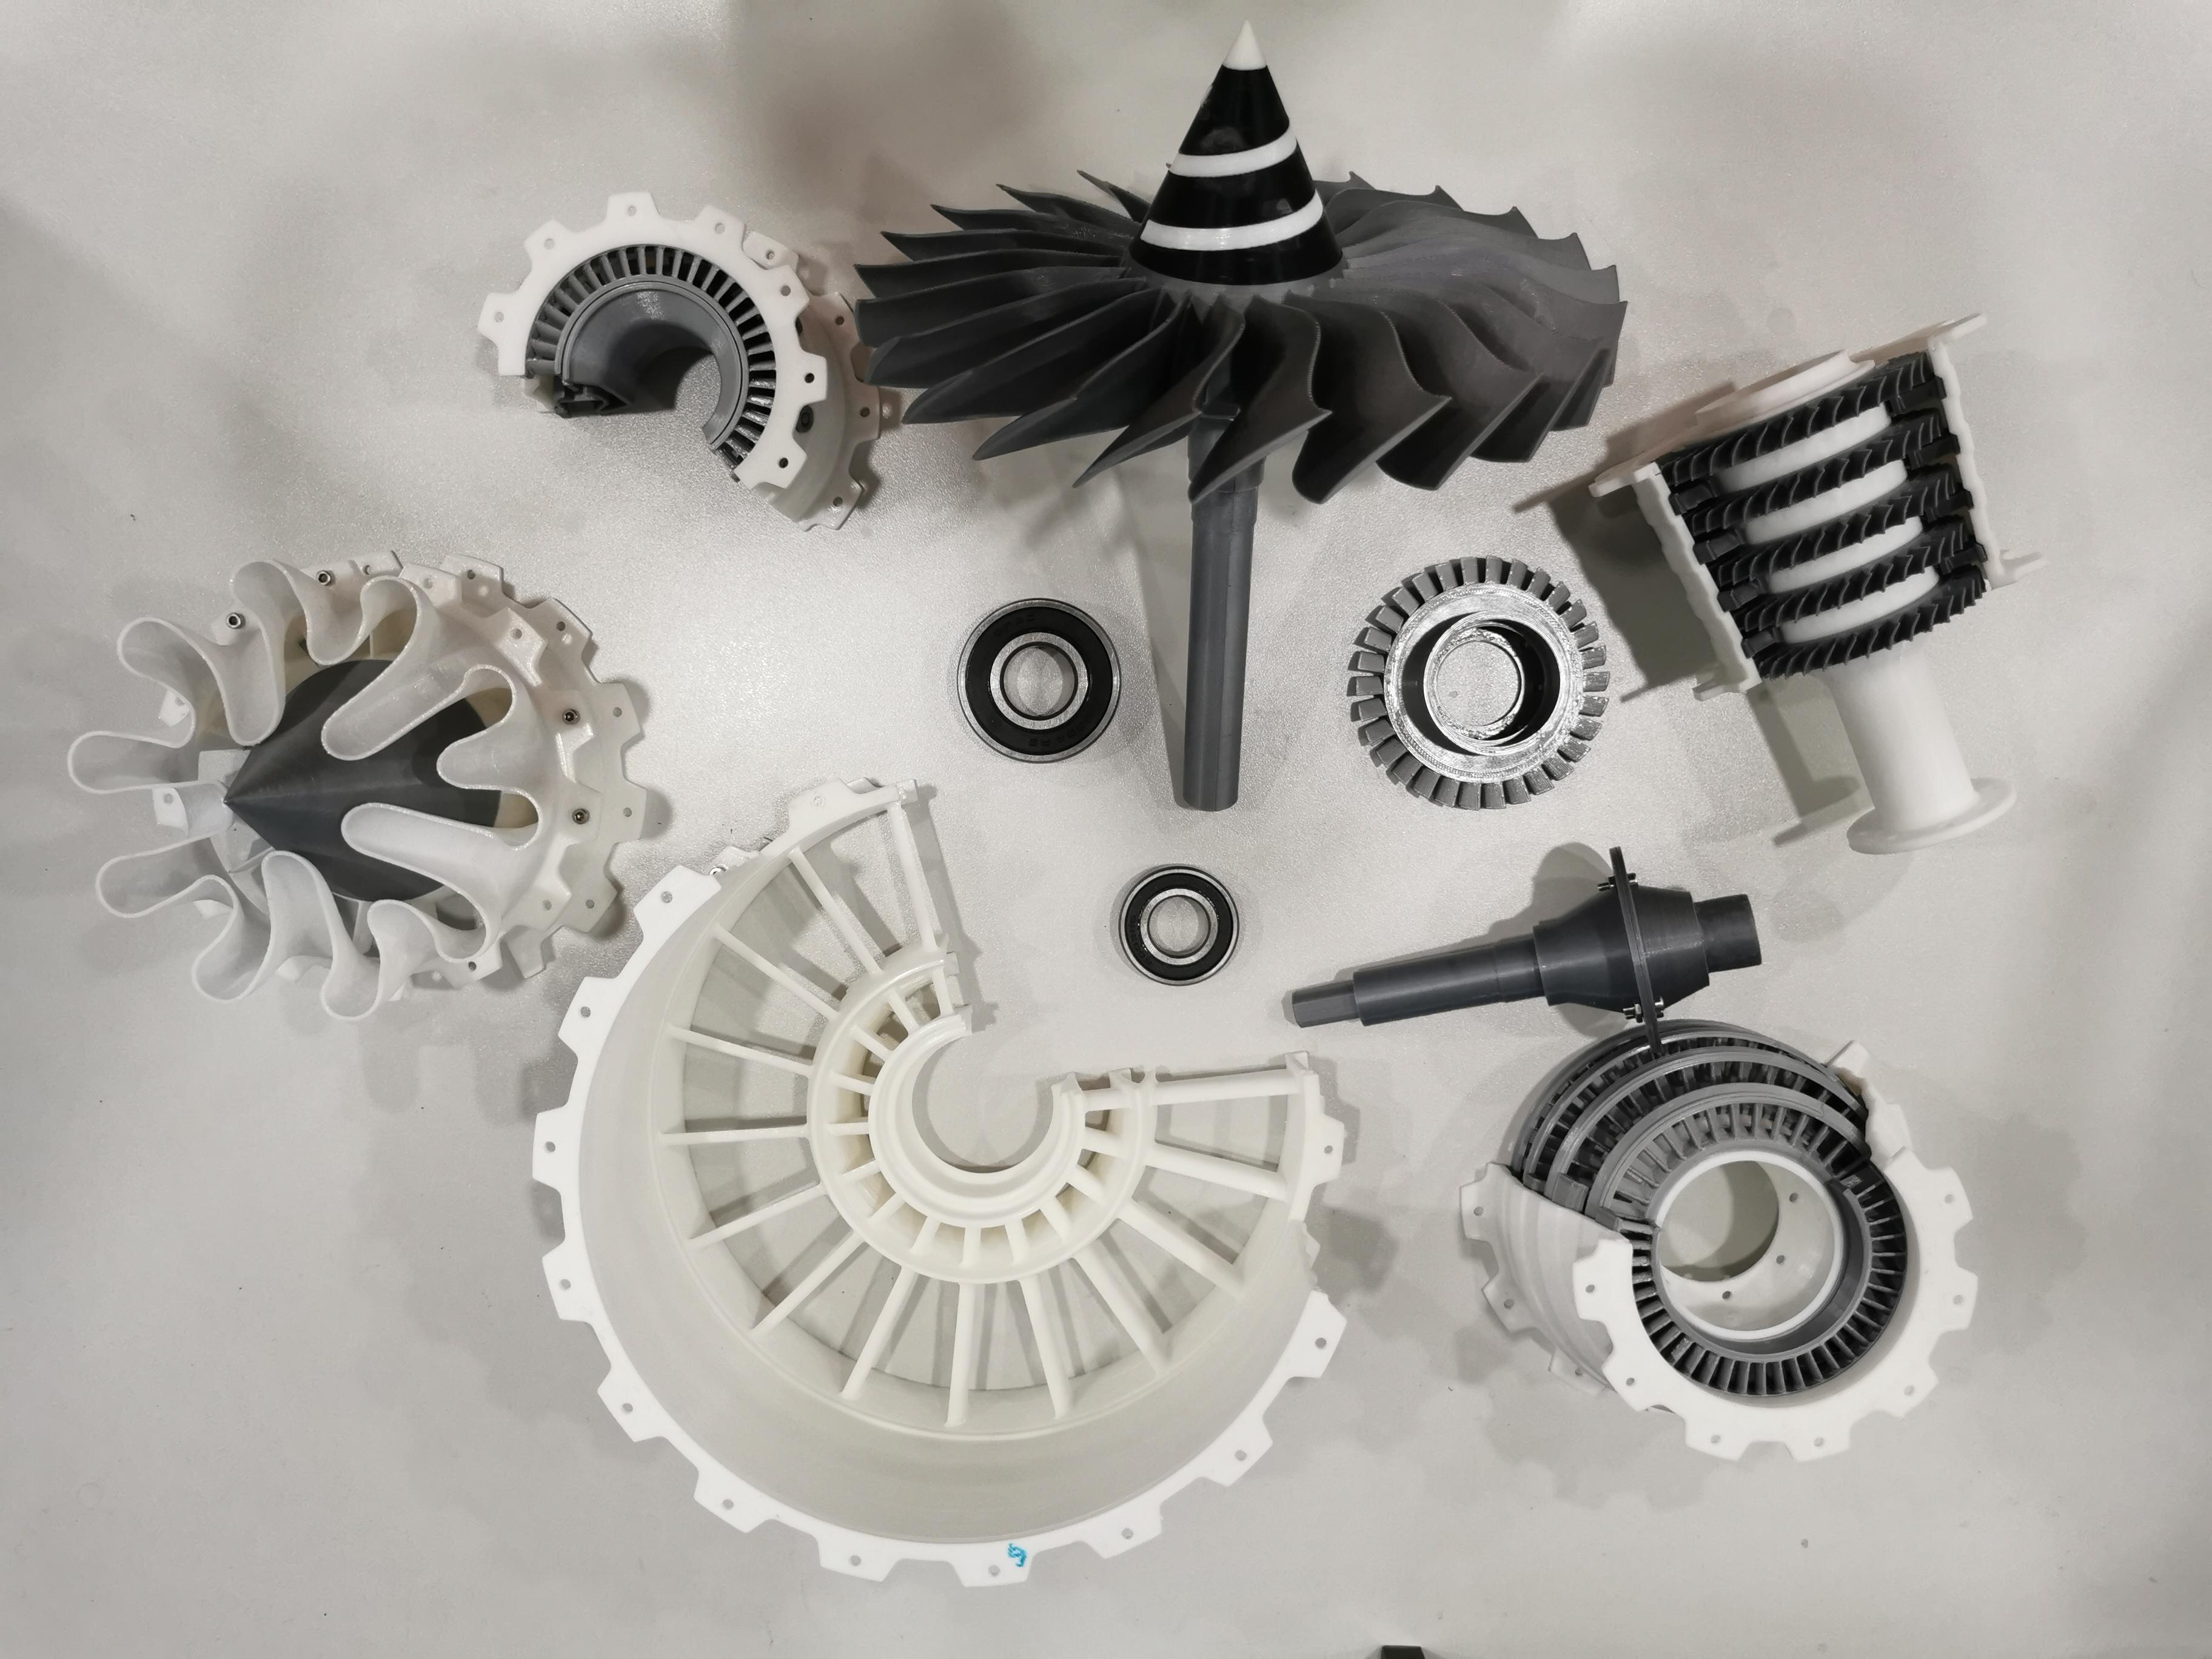Bearing-6003: (1103, 845, 1258, 997)
Bearing-6204: (939, 582, 1137, 786)
Combustion Section: (467, 174, 895, 549)
Fan Casing and Support: (519, 772, 1352, 1596)
Fan and Low Pressure Shaft: (848, 14, 1637, 817)
HPT Section: (1329, 545, 1637, 819)
High Pressure Spool: (1580, 305, 2060, 863)
LPT Section: (1460, 1011, 1987, 1469)
Low Pressure Spool: (1273, 838, 1773, 1053)
Nozzle Section: (56, 538, 653, 1037)
